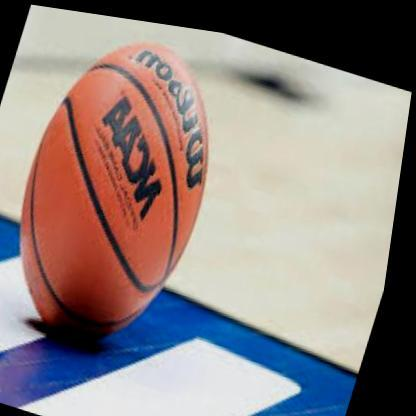basketball: (0, 10, 249, 362)
